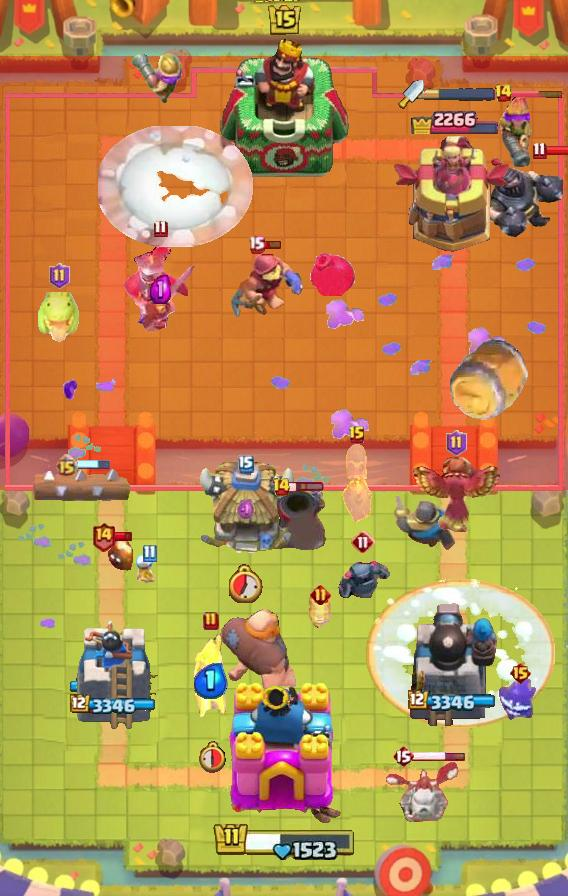baby-dragon: (310, 252, 356, 297)
balloon: (218, 608, 298, 696)
bar: (391, 132, 515, 256)
battle-ram: (335, 557, 391, 603)
bomb-tower: (192, 632, 230, 730), (496, 91, 538, 171), (132, 50, 182, 104)
bomber: (107, 538, 135, 572)
clock: (212, 818, 356, 860)
dirt: (447, 336, 533, 424)
electro-spirit: (194, 663, 228, 699), (149, 276, 170, 305), (237, 498, 256, 521)
electro-wizard: (36, 292, 82, 344)
elixir: (229, 565, 263, 604), (196, 740, 226, 772)
emote: (412, 750, 466, 762), (510, 90, 564, 99), (287, 481, 324, 493), (75, 459, 111, 471), (544, 145, 568, 156), (262, 238, 282, 249), (114, 530, 134, 541)
fireball: (228, 248, 306, 322)
firecracker: (392, 496, 456, 551)
goblin-ball: (340, 444, 374, 526)
golden-knight: (408, 456, 504, 534)
heal-spirit: (134, 554, 164, 586)
ice-spirit-evolution: (306, 593, 334, 629)
king-tower: (218, 37, 350, 181), (222, 680, 346, 826)
king-tower-bar: (424, 87, 496, 101)
mini-pekka: (382, 758, 460, 826)
minion: (31, 465, 131, 507)
musketeer: (266, 485, 328, 553)
phoenix-big: (366, 580, 554, 729)
prince: (195, 462, 297, 558)
queen-tower: (70, 616, 158, 731)
royal-guardian: (480, 156, 568, 242)
selected: (409, 104, 500, 134), (408, 690, 498, 714), (70, 694, 158, 716)
spear-goblin: (498, 676, 542, 724)
text: (92, 520, 117, 551), (351, 530, 375, 554), (509, 661, 532, 685), (50, 263, 71, 289), (446, 430, 467, 456), (54, 454, 77, 477), (392, 744, 414, 768), (309, 583, 330, 604), (494, 83, 514, 103), (272, 477, 292, 497), (348, 425, 366, 445), (247, 234, 264, 253), (203, 611, 219, 631), (238, 455, 254, 473), (532, 141, 547, 160), (143, 545, 158, 564), (153, 218, 167, 237)
tower-bar: (408, 599, 498, 731)
wall-breaker: (99, 125, 253, 246)
wall-breaker-evolution: (122, 243, 198, 331)
